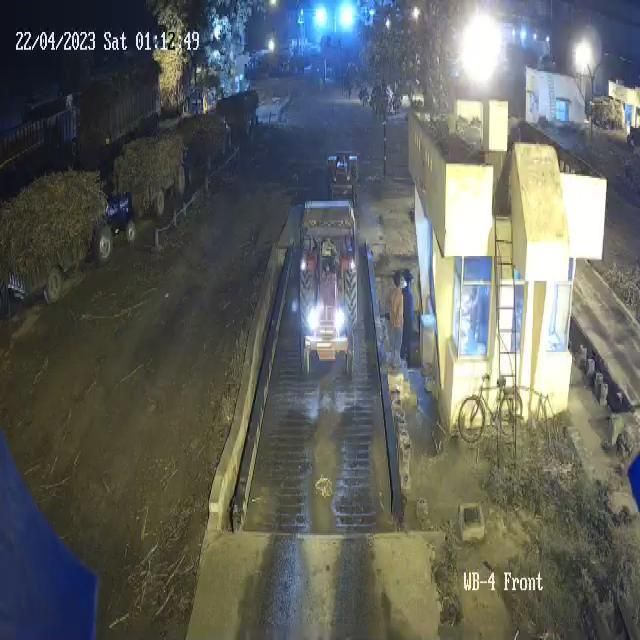Tratores - v5 YOLO V8L 2024-11-13: (298, 202, 359, 389), (86, 176, 146, 268), (324, 142, 362, 198)
